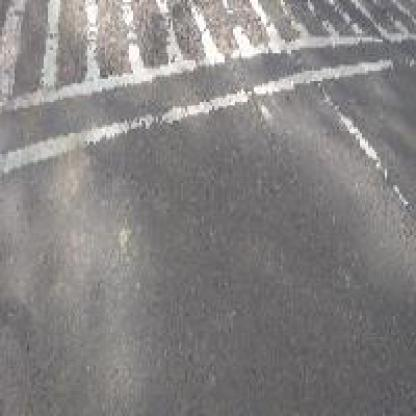Speed Bump: (4, 0, 410, 173)
